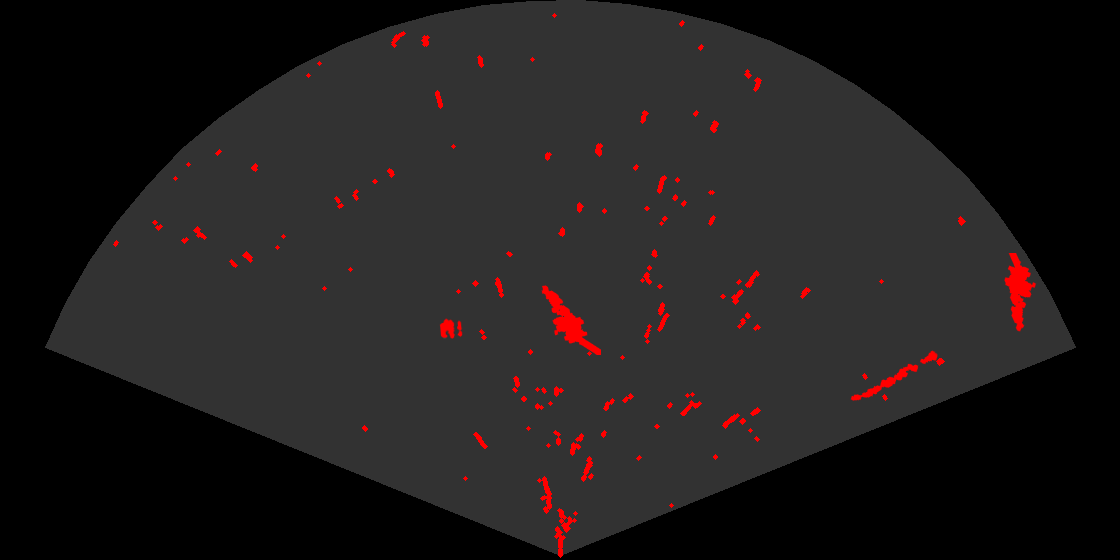ball: (438, 317, 464, 340)
chain: (849, 349, 939, 402)
frogman: (540, 284, 601, 355), (1003, 253, 1037, 333)
